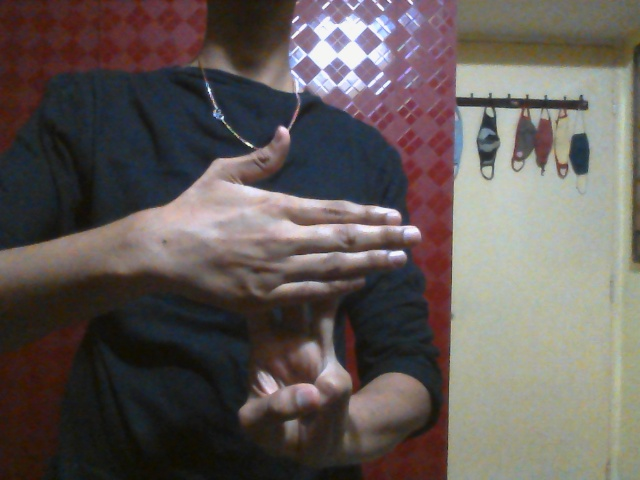M: (164, 125, 422, 452)
